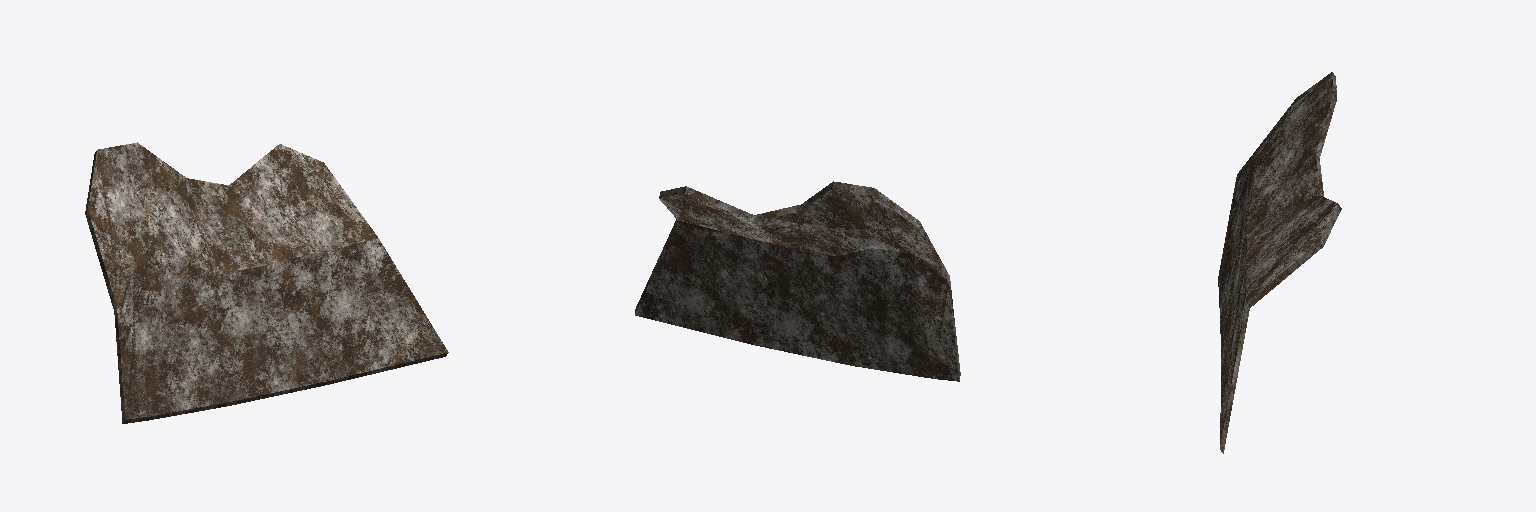
3 renders of one model, left to right at view 1: azimuth 30°, elevation 25°; view 2: azimuth 150°, elevation 25°; view 3: azimuth 270°, elevation 25°, orthographic.
Parts seen in each view (by area): view 1: Object023; view 2: Object023; view 3: Object023.
Part boxes in pixels (x1,y1,x2,y2): Object023: (85,142,448,423); Object023: (635,181,960,381); Object023: (1218,72,1341,453).
Bounding box in the file's own units: 89.11 × 62.62 × 29.45.
Materials: 1 (1 with a texture image).